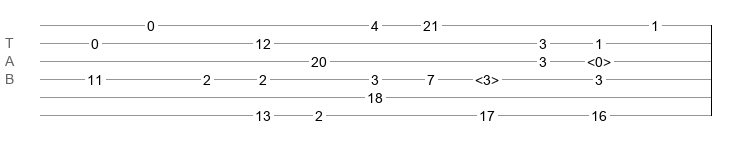0: (91, 36, 99, 46), (147, 18, 155, 28)
1: (595, 36, 603, 46), (651, 18, 659, 28)
11: (87, 72, 103, 82)
12: (255, 36, 271, 46)
13: (255, 108, 271, 118)
16: (591, 108, 607, 118)
17: (479, 108, 495, 118)
18: (367, 90, 383, 100)
2: (203, 72, 211, 82), (259, 72, 267, 82), (315, 108, 323, 118)
20: (311, 54, 327, 64)
21: (423, 18, 439, 28)
3: (371, 72, 379, 82), (539, 54, 547, 64), (539, 36, 547, 46), (595, 72, 603, 82)
4: (371, 18, 379, 28)
7: (427, 72, 435, 82)
harmonic: (475, 72, 499, 82), (587, 54, 611, 64)
